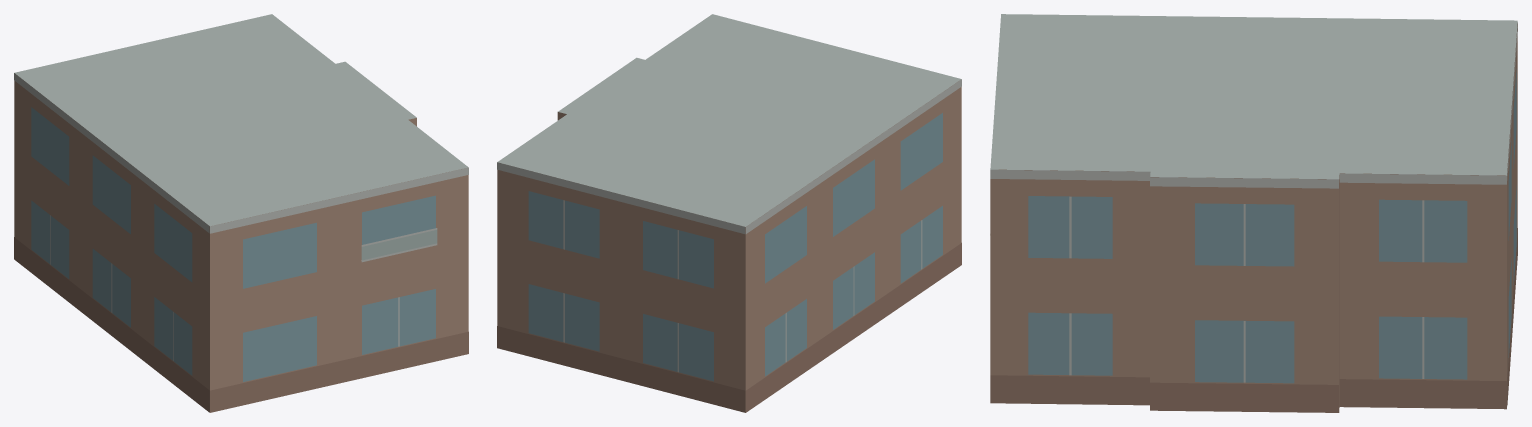
Rendered from survey-upis-32998196.glb.
The picture shows the model from 3 angles, left to right: view 1: azimuth 30°, elevation 25°; view 2: azimuth 150°, elevation 25°; view 3: azimuth 270°, elevation 25°; orthographic projection. The views are drawn at different scales.
Parts seen in each view (by area): view 1: survey-upis-32998196.tmp; view 2: survey-upis-32998196.tmp; view 3: survey-upis-32998196.tmp.
Boxes of the visible parts, x1=… form: survey-upis-32998196.tmp: x1=14, y1=14, x2=468, y2=412; survey-upis-32998196.tmp: x1=497, y1=14, x2=961, y2=412; survey-upis-32998196.tmp: x1=990, y1=14, x2=1517, y2=412.
Size of the model in its own units: 9.26 by 6.1 by 12.5.
